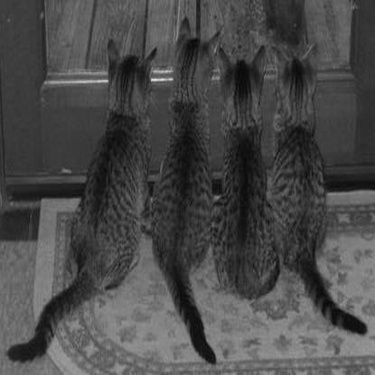cat: (13, 18, 155, 365), (262, 18, 363, 334), (197, 34, 281, 301), (162, 10, 219, 360)
